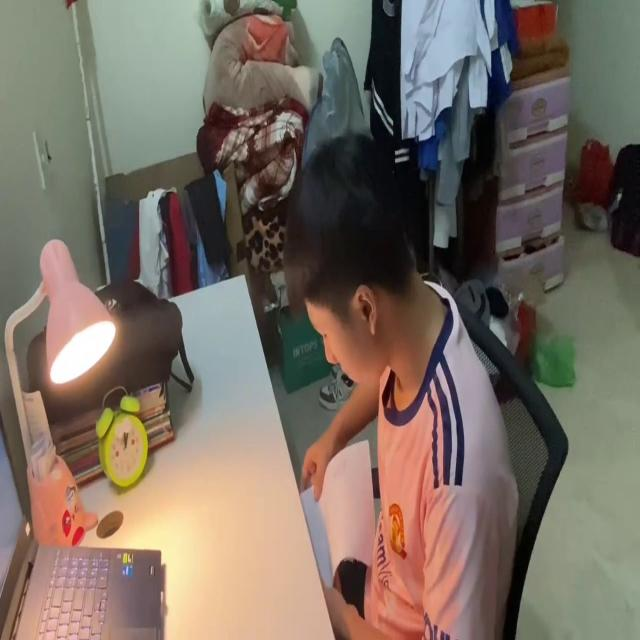book: (301, 442, 380, 582)
laptop: (0, 404, 164, 640)
student: (278, 130, 513, 640)
